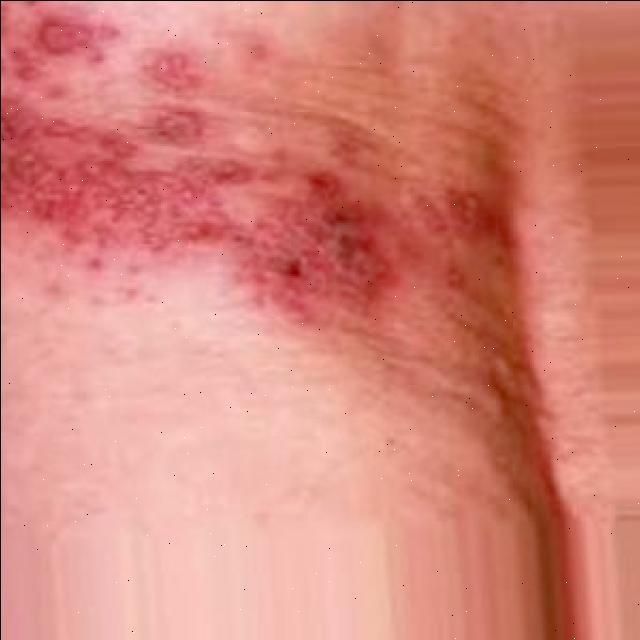Shingles: (0, 96, 398, 330), (415, 178, 508, 286), (10, 10, 119, 84), (138, 48, 203, 91)
